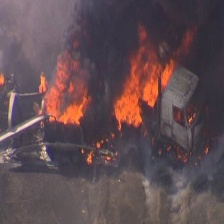fire: (114, 32, 213, 161), (38, 55, 88, 125), (80, 136, 118, 170), (1, 71, 12, 87)
smoke: (72, 3, 209, 113)
